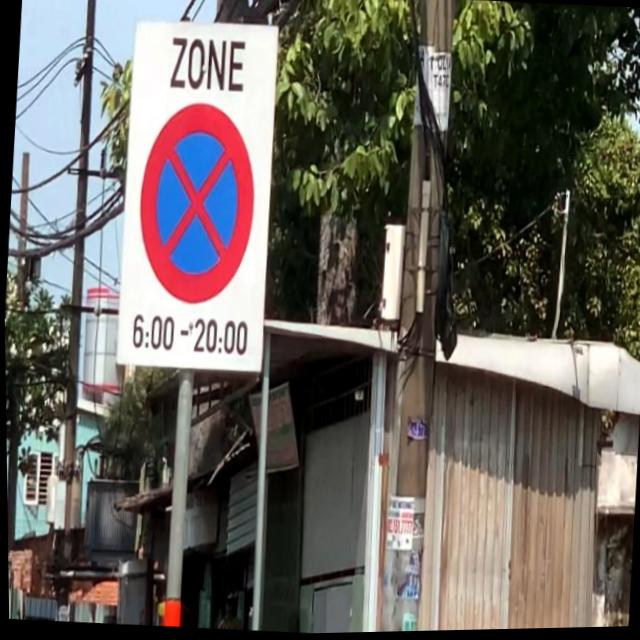Cam dung xe va do xe: (129, 93, 265, 315)
